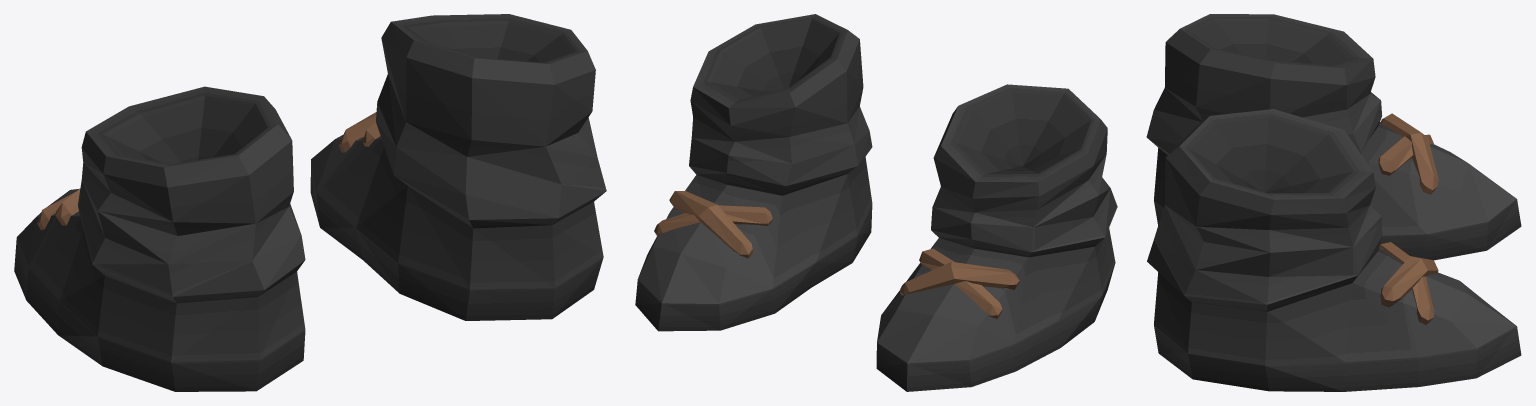
Rendered from CharSkyKid_Feet_AP17RaggedTunic.glb.
3 renders of one model, left to right at view 1: azimuth 30°, elevation 25°; view 2: azimuth 150°, elevation 25°; view 3: azimuth 270°, elevation 25°, orthographic. The views are drawn at different scales.
Visible parts, largest first — view 1: CharSkyKid_Feet_AP17RaggedTunic; view 2: CharSkyKid_Feet_AP17RaggedTunic; view 3: CharSkyKid_Feet_AP17RaggedTunic.
Part boxes in pixels (x1,y1,x2,y2): CharSkyKid_Feet_AP17RaggedTunic: (14,14,606,391); CharSkyKid_Feet_AP17RaggedTunic: (635,14,1117,391); CharSkyKid_Feet_AP17RaggedTunic: (1146,14,1521,391).
Bounding box in the file's own units: 3.02 × 1.45 × 2.27.
1 material, 1 textured.
